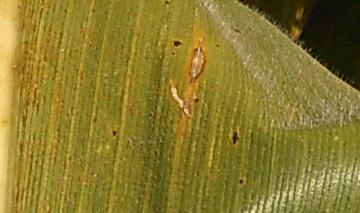tarspot: (231, 130, 240, 145), (172, 39, 183, 49), (230, 26, 242, 34), (237, 178, 245, 186), (192, 97, 200, 104), (111, 129, 118, 137), (214, 42, 220, 48), (170, 51, 176, 56), (164, 1, 170, 6)
